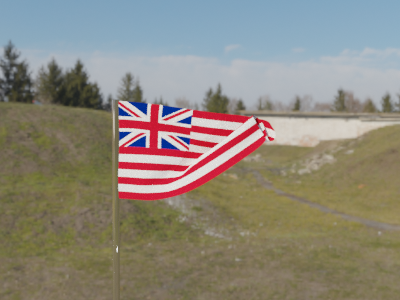Malaysia flag: (116, 100, 276, 200)
